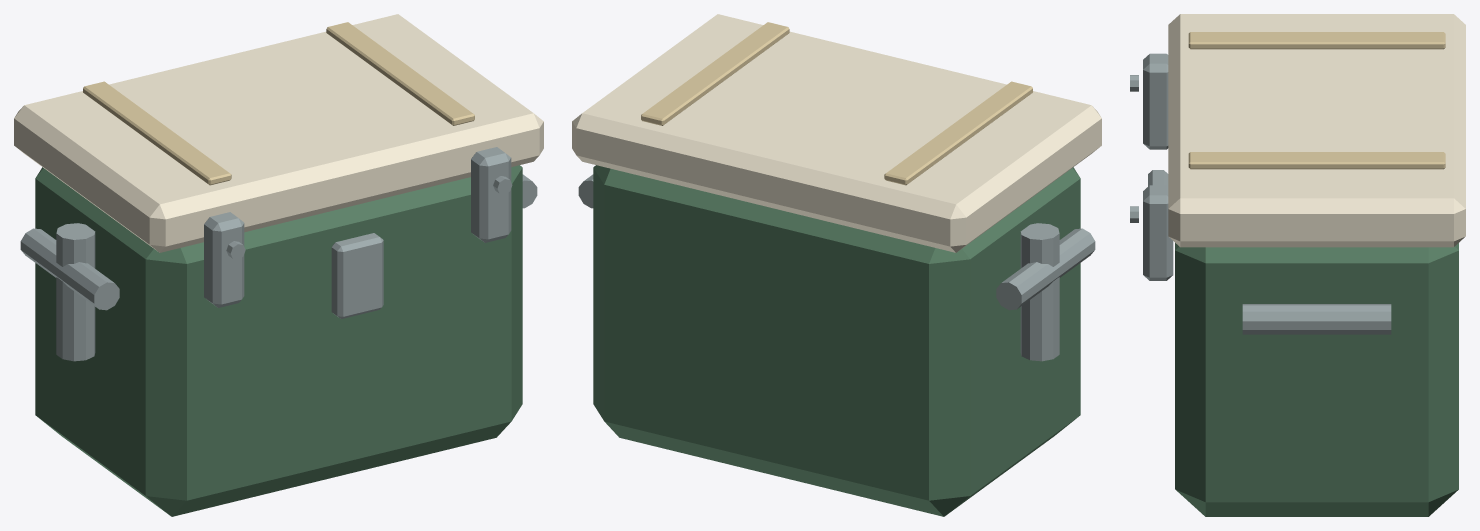
Rendered from Cooler_A.glb.
3 renders of one model, left to right at view 1: azimuth 30°, elevation 25°; view 2: azimuth 150°, elevation 25°; view 3: azimuth 270°, elevation 25°, orthographic.
Visible parts, largest first — view 1: Cooler_A; view 2: Cooler_A; view 3: Cooler_A.
Part boxes in pixels (x1,y1,x2,y2): Cooler_A: (14,14,543,516); Cooler_A: (572,14,1101,516); Cooler_A: (1130,14,1465,516).
Size of the model in its own units: 0.7637 by 0.555 by 0.4965.
